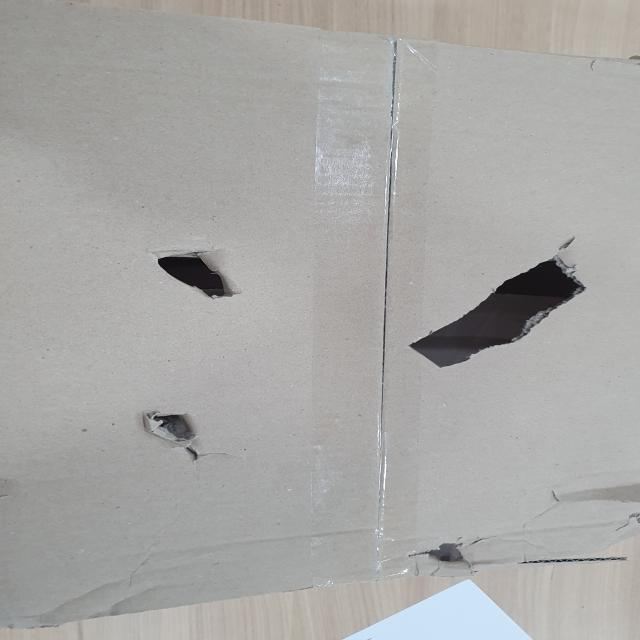hole: (393, 248, 599, 368), (139, 245, 247, 299), (131, 406, 216, 454)
